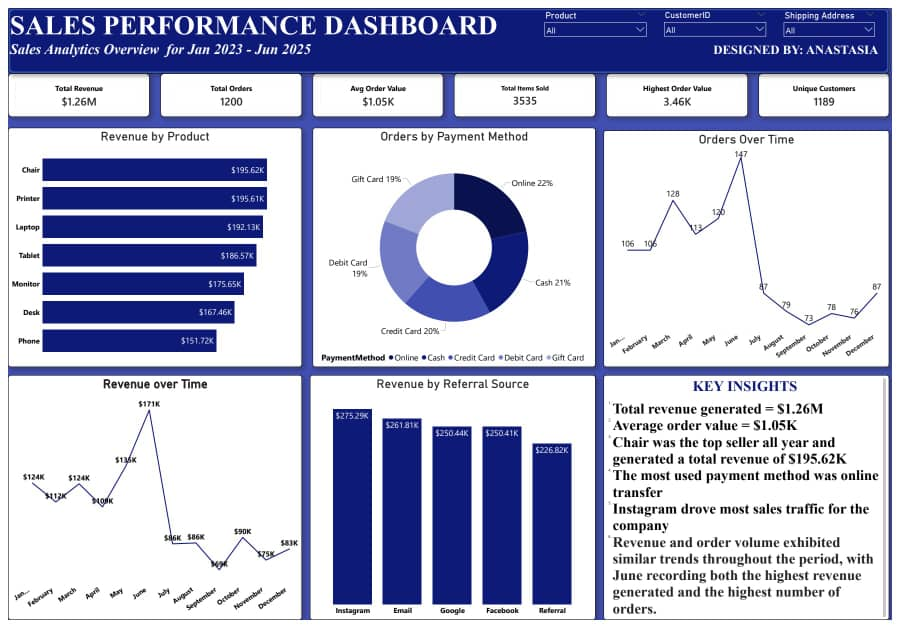

What the dashboard file says about the page in this screenshot:
{"tool":"powerbi","page":{"name":"Page 1","canvas":[2600,1800],"ordinal":0},"visuals":[{"type":"cardVisual","fields":{"Data":["Sheet1.Total Revenue"]},"box":[0,192,416,128],"z":0},{"type":"cardVisual","fields":{"Data":["Sheet1.Avg Order Value"]},"box":[896,192,384,128],"z":1000},{"type":"cardVisual","fields":{"Data":["Sheet1.Total Quantity"]},"box":[1312,192,416,128],"z":2000},{"type":"cardVisual","fields":{"Data":["Sheet1.Highest Order"]},"box":[1760,192,416,128],"z":3000},{"type":"cardVisual","fields":{"Data":["Sheet1.Unique Customers"]},"box":[2208,192,384,128],"z":4000},{"type":"shape","box":[0,0,2592,192],"z":5000},{"type":"cardVisual","fields":{"Data":["Sheet1.Total Orders"]},"box":[448,192,416,128],"z":6000},{"type":"lineChart","title":"Revenue over Time","fields":{"Category":["Sheet1.Date.Variation.Date Hierarchy.Month"],"Y":["Sheet1.Total Revenue"]},"box":[0,1080,864,720],"z":7000},{"type":"barChart","title":"Revenue by Product","fields":{"Category":["Sheet1.Product"],"Y":["Sheet1.Total Revenue"]},"box":[0,352,864,704],"z":8000},{"type":"donutChart","title":" Orders by Payment Method","fields":{"Category":["Sheet1.PaymentMethod"],"Y":["Sheet1.Total Orders"]},"box":[896,352,832,704],"z":9000},{"type":"lineChart","title":"Orders Over Time","fields":{"Category":["Sheet1.Date.Variation.Date Hierarchy.Month"],"Y":["Sheet1.Total Orders"]},"box":[1752,360,840,696],"z":10000},{"type":"textbox","box":[1752,1080,840,720],"z":11000},{"type":"textbox","box":[0,0,2592,192],"z":12000},{"type":"slicer","fields":{"Values":["Sheet1.Product"]},"box":[1568,0,320,96],"z":13000},{"type":"slicer","fields":{"Values":["Sheet1.CustomerID"]},"box":[1920,0,320,96],"z":14000},{"type":"slicer","fields":{"Values":["Sheet1.ShippingAddress"]},"box":[2272,0,288,96],"z":15000},{"type":"columnChart","title":"Revenue by Referral Source","fields":{"Category":["Sheet1.ReferralSource"],"Y":["Sheet1.Total Revenue"]},"box":[888,1080,840,720],"z":15001}]}

Visuals, with their boxes in screenshot pixels (x1, y1, x2, y2), scaled from the page's 2600x1800 canvas onto the 900x628 screenshot:
cardVisual - Sheet1.Total Revenue: 0,67,144,112
cardVisual - Sheet1.Avg Order Value: 310,67,443,112
cardVisual - Sheet1.Total Quantity: 454,67,598,112
cardVisual - Sheet1.Highest Order: 609,67,753,112
cardVisual - Sheet1.Unique Customers: 764,67,897,112
shape: 0,0,897,67
cardVisual - Sheet1.Total Orders: 155,67,299,112
"Revenue over Time" lineChart: 0,377,299,627
"Revenue by Product" barChart: 0,123,299,368
" Orders by Payment Method" donutChart: 310,123,598,368
"Orders Over Time" lineChart: 606,126,897,368
textbox: 606,377,897,627
textbox: 0,0,897,67
slicer - Sheet1.Product: 543,0,654,33
slicer - Sheet1.CustomerID: 665,0,775,33
slicer - Sheet1.ShippingAddress: 786,0,886,33
"Revenue by Referral Source" columnChart: 307,377,598,627
